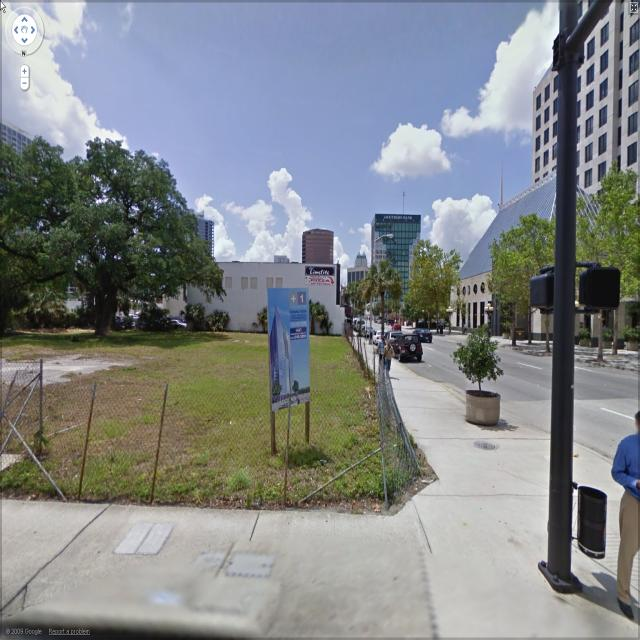b_1: (531, 14, 639, 165), (301, 222, 350, 262)
b_2: (445, 152, 640, 342), (372, 200, 452, 324), (149, 198, 231, 266), (0, 109, 60, 195), (340, 247, 373, 329)
